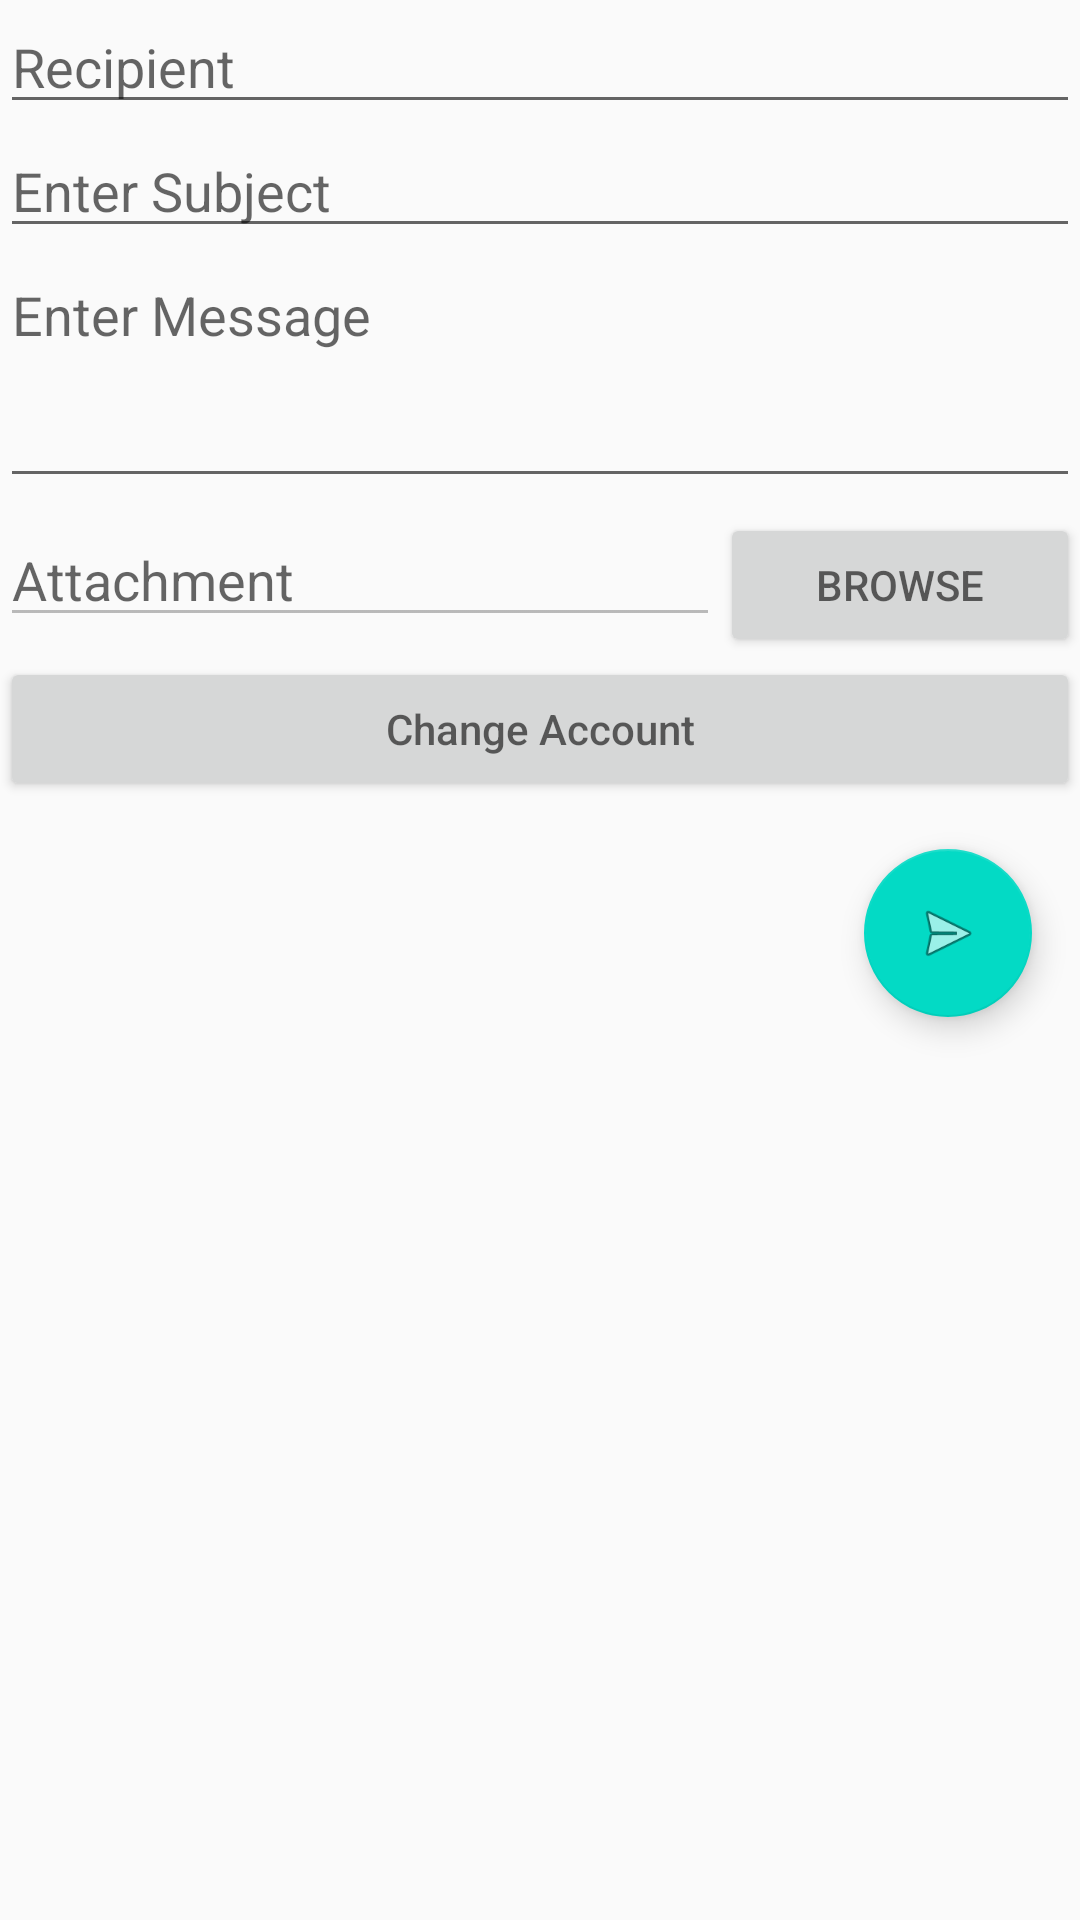

Named icons in this screenshot (1080 × 1920) and their centers, (x,y):
send: (948,933)
